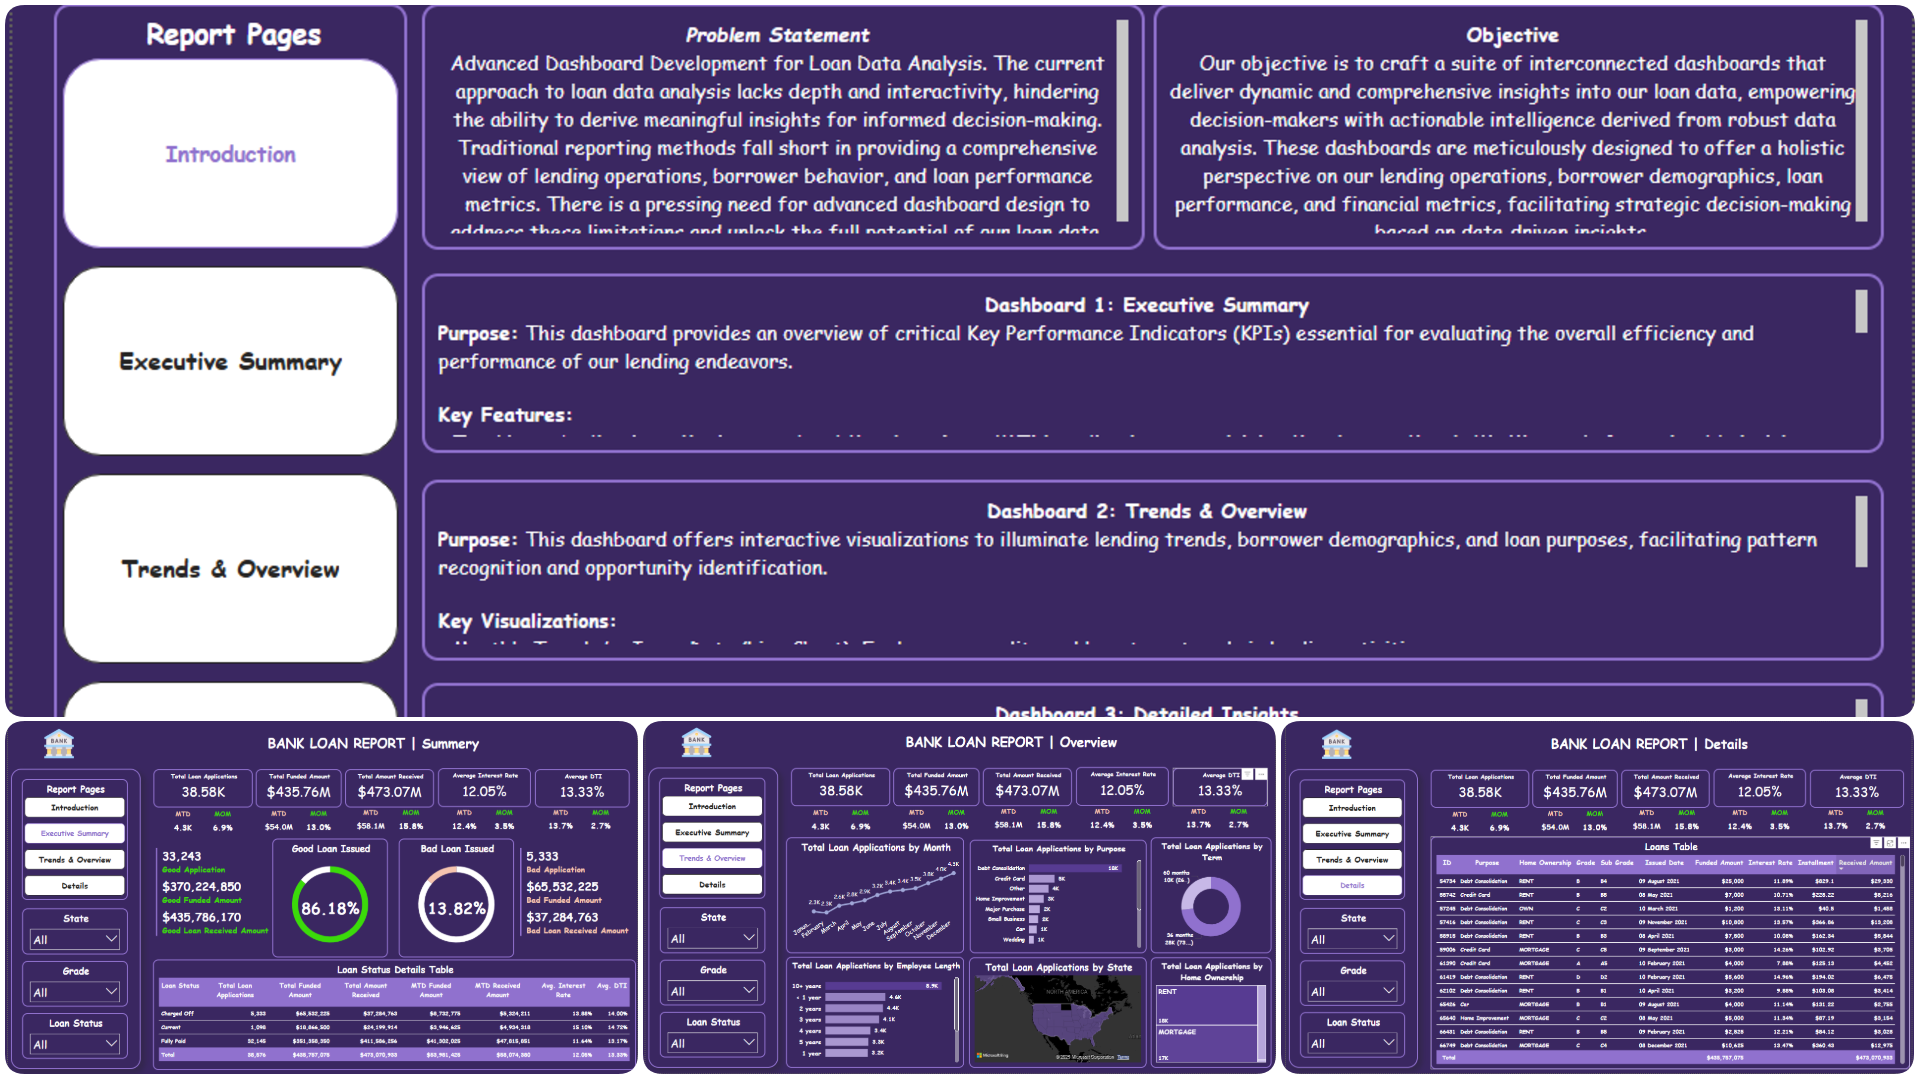

Layout of this report page (visuals, bound fields, positions):
{"tool":"powerbi","page":{"name":"Introduction","canvas":[1280,720],"ordinal":0},"visuals":[{"type":"group","id":"g1","title":"Group 2","box":[0,5.2,1279.8,85.8],"z":0},{"type":"textbox","box":[206.8,5.2,1073,85.8],"z":0,"group":"g2"},{"type":"group","id":"g2","title":"Group 1","box":[206.8,5.2,1073,85.8],"z":2,"group":"g1"},{"type":"pageNavigator","title":"Report Pages","box":[28.4,118.9,237.9,592],"z":1000},{"type":"textbox","box":[275.7,118.9,486.8,166.2],"z":2000},{"type":"textbox","box":[275.7,300.9,985.5,121.3],"z":3000},{"type":"textbox","box":[768.8,118.9,492.3,166.2],"z":4000},{"type":"textbox","box":[275.7,440.4,985.5,121.3],"z":5000},{"type":"textbox","box":[275.7,577.4,985.5,121.3],"z":6000},{"type":"image","box":[0,5.9,207.7,84.2],"z":7001,"group":"g1"}]}

Visuals, with their boxes in screenshot pixels (x1, y1, x2, y2), scaled from the page's 1280x720 canvas onto the 1920x1080 screenshot:
"Group 2" group: (0,8,1919,136)
textbox: (310,8,1919,136)
"Group 1" group: (310,8,1919,136)
"Report Pages" pageNavigator: (43,178,399,1066)
textbox: (414,178,1144,428)
textbox: (414,451,1892,633)
textbox: (1153,178,1892,428)
textbox: (414,661,1892,843)
textbox: (414,866,1892,1048)
image: (0,9,312,135)
